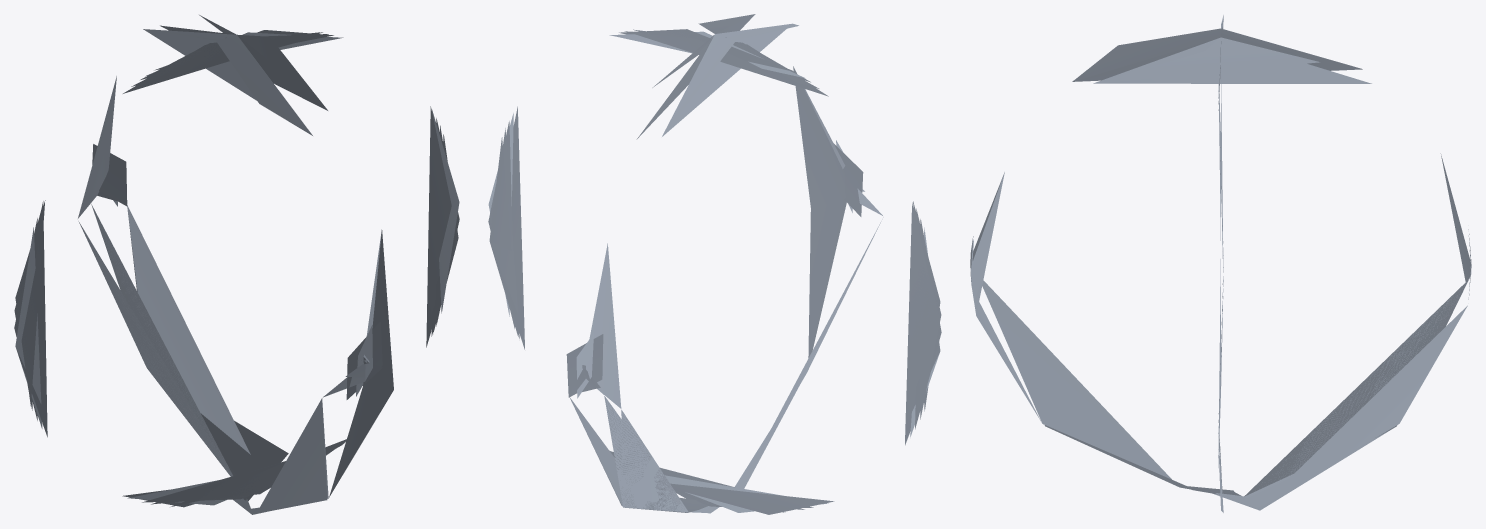
Rendered from stage12.glb.
The picture shows the model from 3 angles, left to right: view 1: azimuth 30°, elevation 25°; view 2: azimuth 150°, elevation 25°; view 3: azimuth 270°, elevation 25°; orthographic projection. The views are drawn at different scales.
Visible parts, largest first — view 1: dsf-12-structural; view 2: dsf-12-structural; view 3: dsf-12-structural.
Part boxes in pixels (bbox=[...]): dsf-12-structural: bbox=[14, 15, 459, 514]; dsf-12-structural: bbox=[488, 14, 941, 514]; dsf-12-structural: bbox=[970, 15, 1471, 512].
Bounding box in the file's own units: 2 × 2 × 2.
